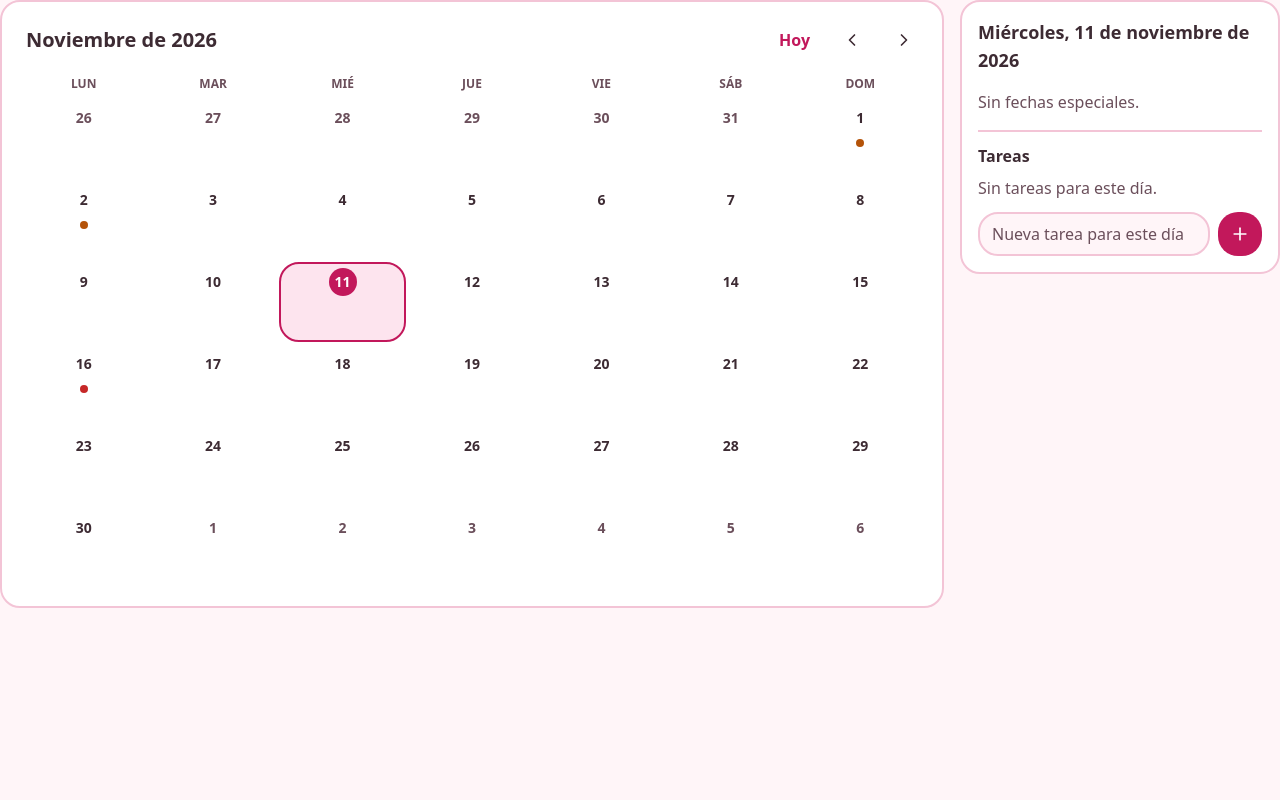
Test: MonthCalendar › shows the details of the selected day and lets you hide a special day
Later steps or results of the test are not shown.
Click the button "16": (84, 384) [20,344,147,424]
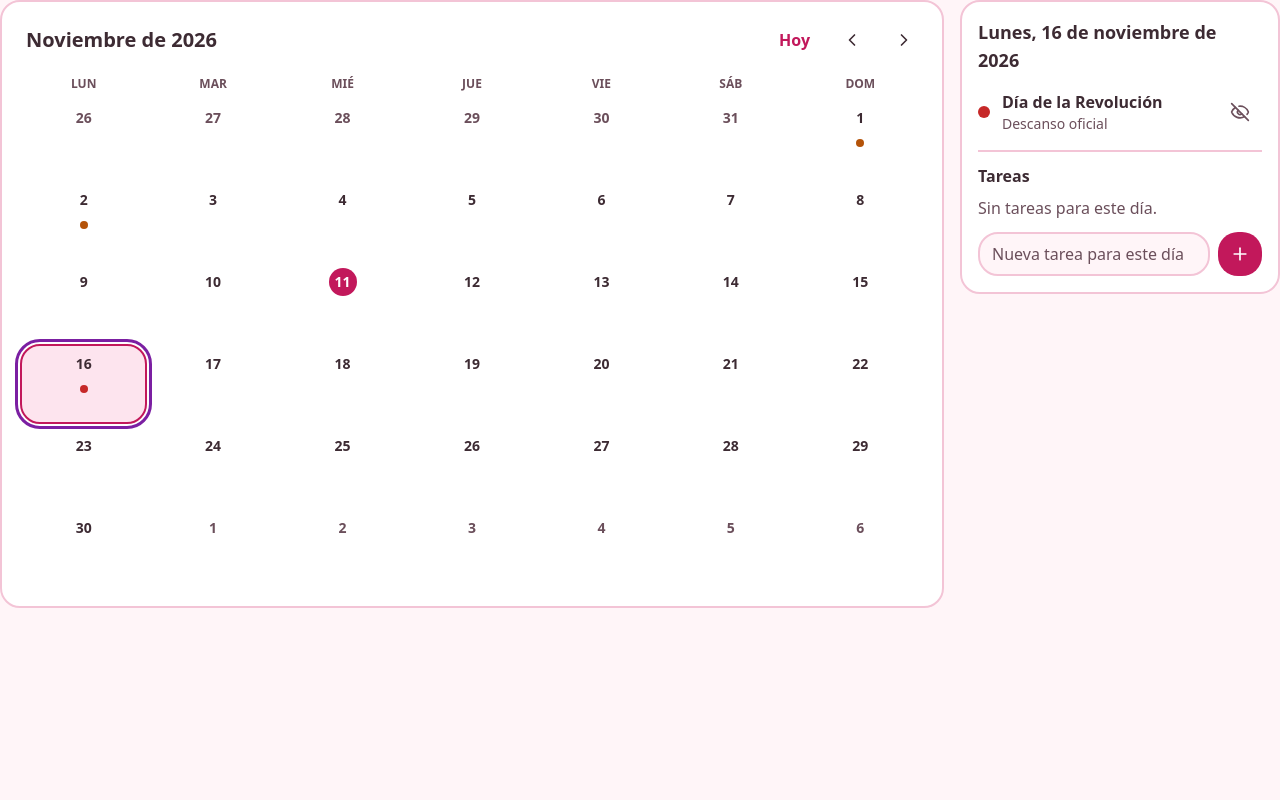
Now the text "Día de la Revolución" is shown, box [1002,91,1163,113]
Now the text "Descanso oficial" is shown, box [1002,114,1108,133]
